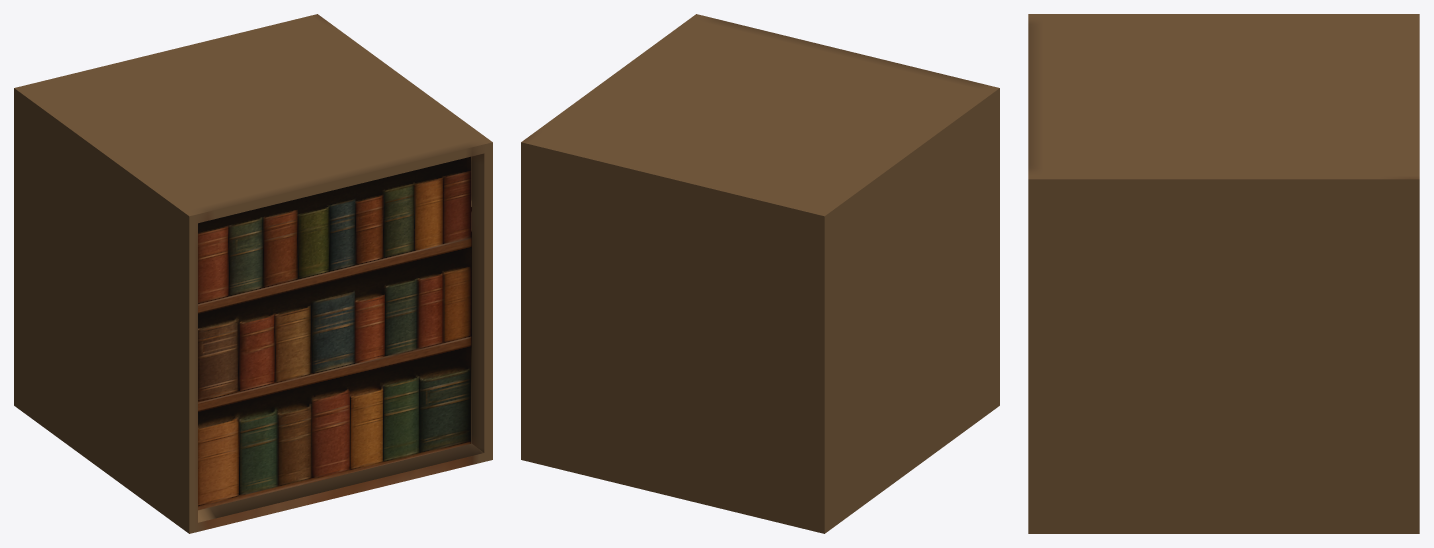
File: bookshelf.glb
3 views of the same model, side by side, from view 1: azimuth 30°, elevation 25°; view 2: azimuth 150°, elevation 25°; view 3: azimuth 270°, elevation 25° (orthographic). The views are drawn at different scales.
Visible parts, largest first — view 1: bookshelf_bake; view 2: bookshelf_bake; view 3: bookshelf_bake.
Boxes of the visible parts, bbox=[...] form: bookshelf_bake: bbox=[14, 14, 492, 533]; bookshelf_bake: bbox=[521, 14, 999, 533]; bookshelf_bake: bbox=[1028, 14, 1419, 533].
Size of the model in its own units: 1 by 1 by 1.
Materials: 1 (1 with a texture image).
